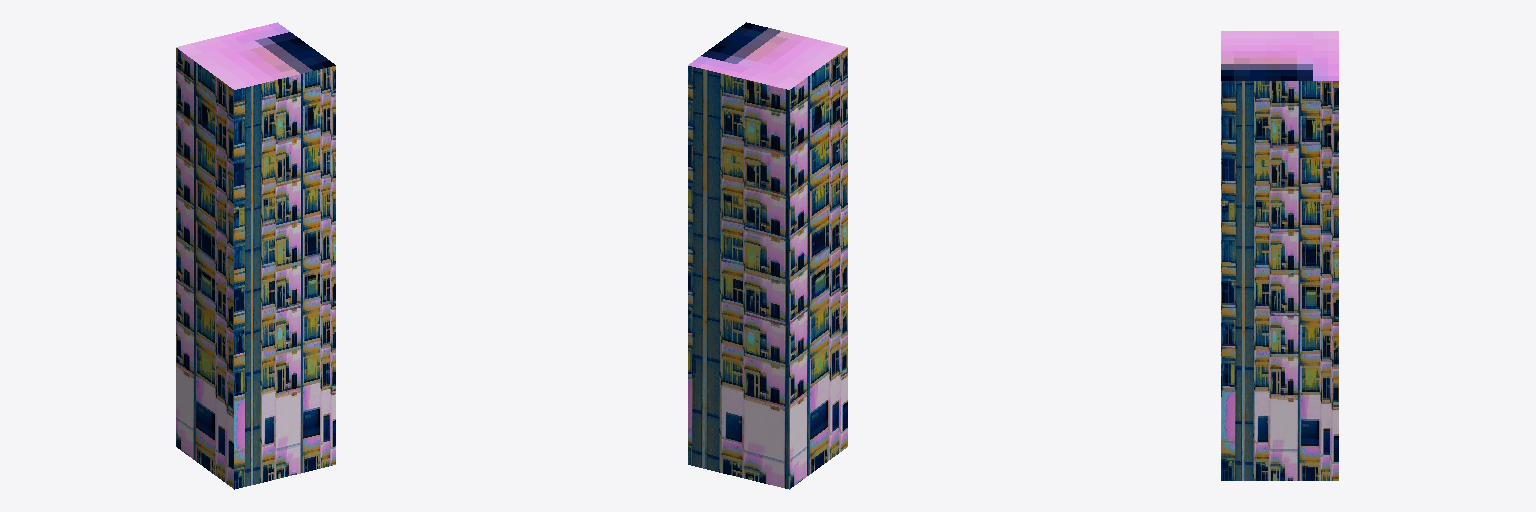
The picture shows the model from 3 angles: view 1: azimuth 30°, elevation 25°; view 2: azimuth 150°, elevation 25°; view 3: azimuth 270°, elevation 25°; orthographic projection.
Visible parts, largest first — view 1: Cube.020; view 2: Cube.020; view 3: Cube.020.
Boxes of the visible parts, x1,y1,x2,y2 form: Cube.020: [176, 22, 335, 489]; Cube.020: [688, 22, 847, 489]; Cube.020: [1221, 31, 1338, 480].
Bounding box in the file's own units: 2 × 7.5 × 2.
Materials: 1 (1 with a texture image).